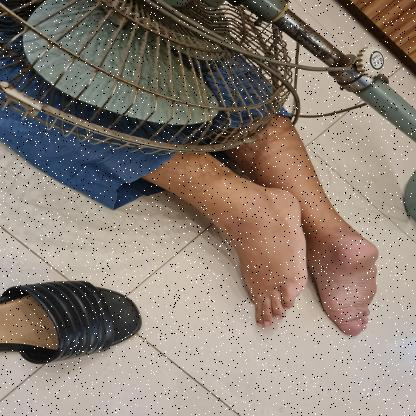leg: (229, 112, 392, 344), (154, 149, 318, 335)
